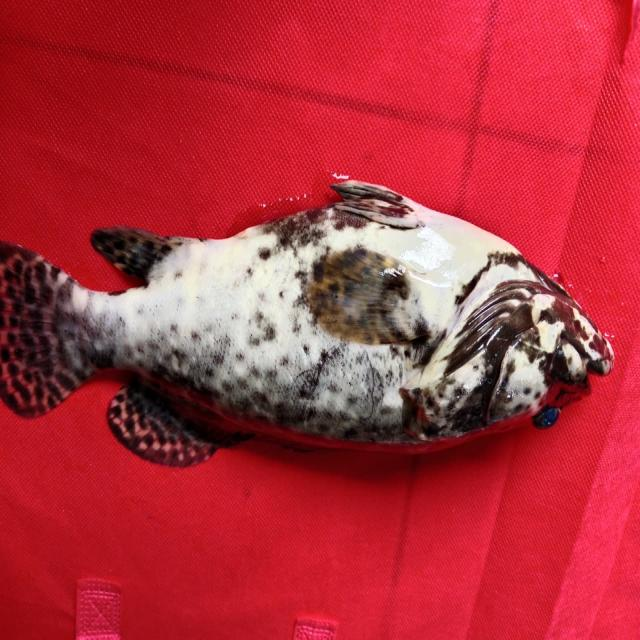ikan: (1, 177, 615, 466)
